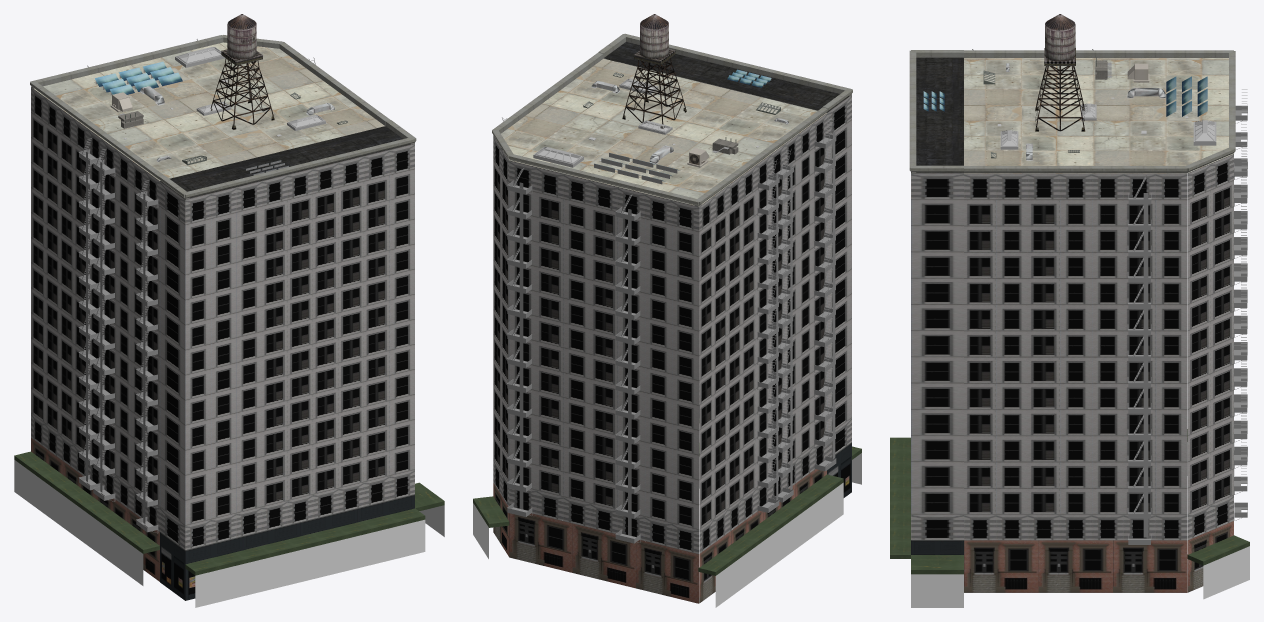
Rendered from building5.gltf.
The picture shows the model from 3 angles, left to right: view 1: azimuth 30°, elevation 25°; view 2: azimuth 150°, elevation 25°; view 3: azimuth 270°, elevation 25°; orthographic projection. The views are drawn at different scales.
Visible parts, largest first — view 1: Object_118.005, Object_99.134, Object_99.129, Object_99.128; view 2: Object_118.005, Object_99.134, Object_99.129, Object_99.128; view 3: Object_118.005, Object_99.134, Object_99.129, Object_99.128.
Part boxes in pixels (box(x1,y1,x2,y2)): Object_118.005: box(14, 35, 444, 607); Object_99.134: box(210, 14, 274, 129); Object_99.129: box(95, 61, 182, 95); Object_99.128: box(175, 47, 225, 67); Object_118.005: box(473, 33, 861, 607); Object_99.134: box(622, 14, 686, 128); Object_99.129: box(594, 152, 679, 184); Object_99.128: box(533, 147, 583, 167); Object_118.005: box(890, 49, 1249, 607); Object_99.134: box(1035, 14, 1085, 131); Object_99.129: box(1166, 76, 1207, 116); Object_99.128: box(1193, 120, 1216, 145).
Size of the model in its own units: 34.62 by 60.26 by 37.3.
18 materials, 12 textured.
